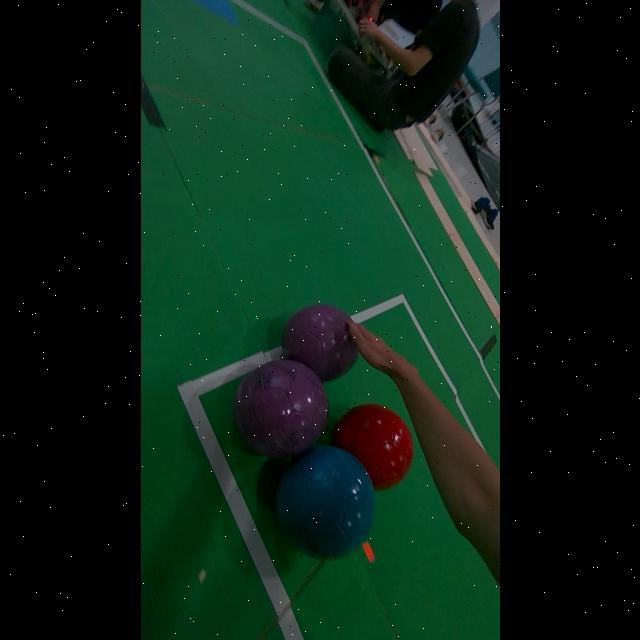B: (274, 446, 375, 559)
P: (233, 360, 329, 457), (281, 304, 358, 381)
R: (333, 404, 413, 490)
